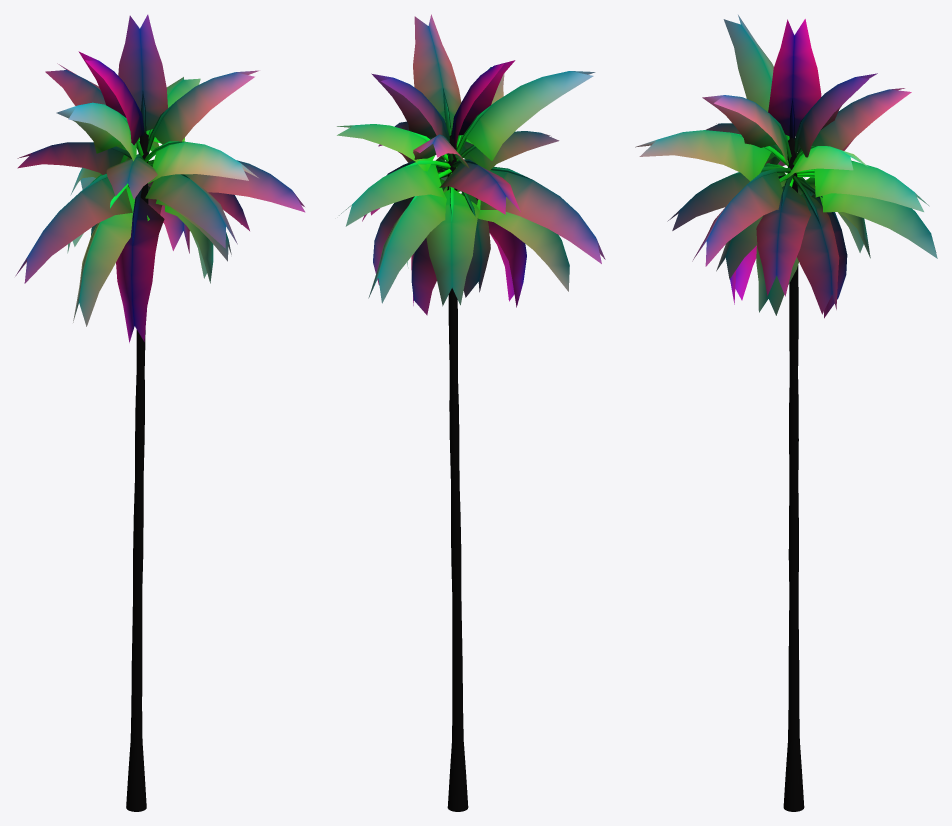
The model's file is M_Palm_1_2.fbx.
The picture shows the model from 3 angles, left to right: view 1: azimuth 30°, elevation 25°; view 2: azimuth 150°, elevation 25°; view 3: azimuth 270°, elevation 25°; orthographic projection.
Visible parts, largest first — view 1: Palm_1_2; view 2: Palm_1_2; view 3: Palm_1_2.
Part boxes in pixels (bbox=[...]): Palm_1_2: bbox=[15, 14, 305, 811]; Palm_1_2: bbox=[337, 14, 605, 811]; Palm_1_2: bbox=[635, 15, 937, 811].
Size of the model in its own units: 537 by 1519 by 547.
